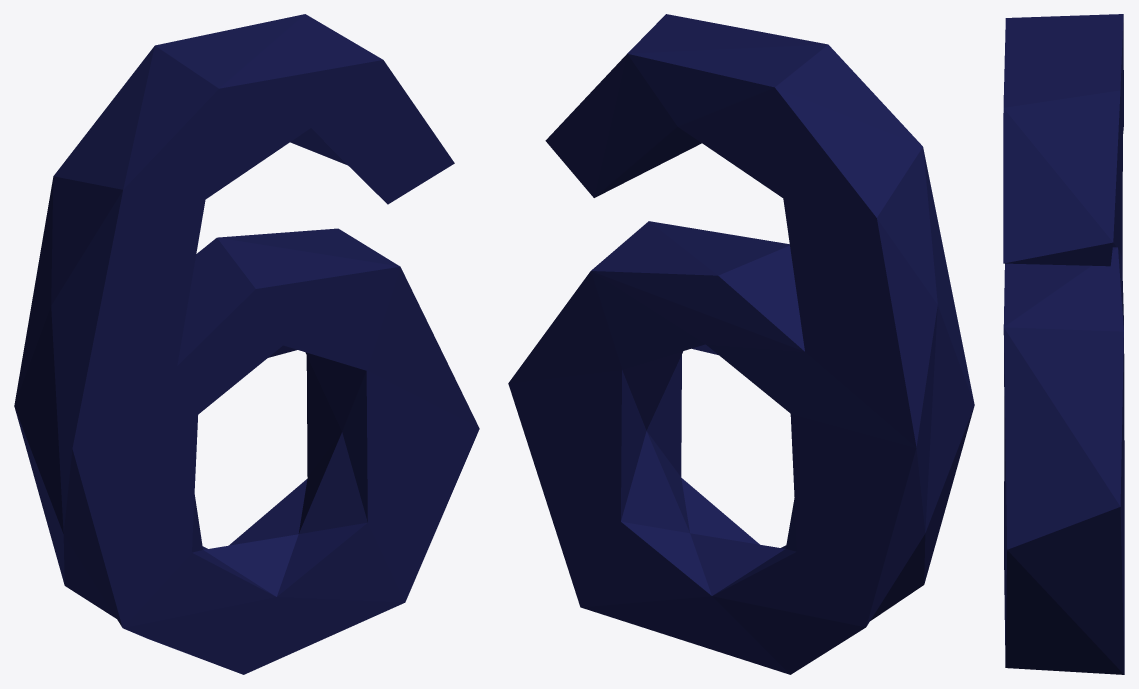
The picture shows the model from 3 angles, left to right: view 1: azimuth 30°, elevation 25°; view 2: azimuth 150°, elevation 25°; view 3: azimuth 270°, elevation 25°; orthographic projection.
Visible parts, largest first — view 1: Six; view 2: Six; view 3: Six.
Part boxes in pixels (x1,y1,x2,y2): Six: (14,14,479,674); Six: (508,14,974,674); Six: (1003,14,1124,674).
Size of the model in its own units: 0.3584 by 0.4994 by 0.0922.
